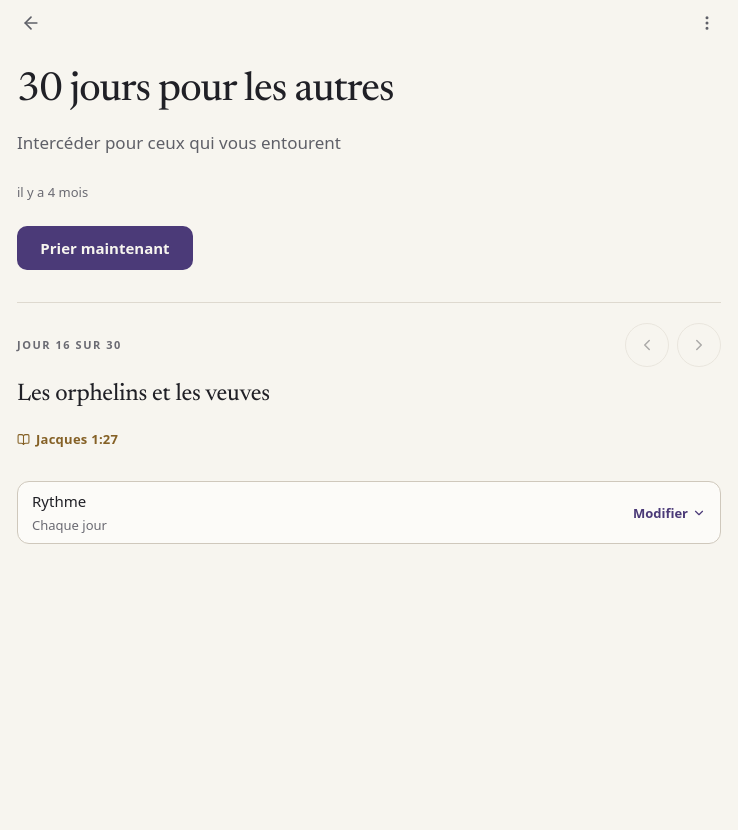
a plan run states its rhythm exactly once › opens the ONE scheduler from that row — there is no second pace control
Click the text "Rythme" at [59, 501], box x1=32 y1=491 x2=86 y2=511
(page scrolled)
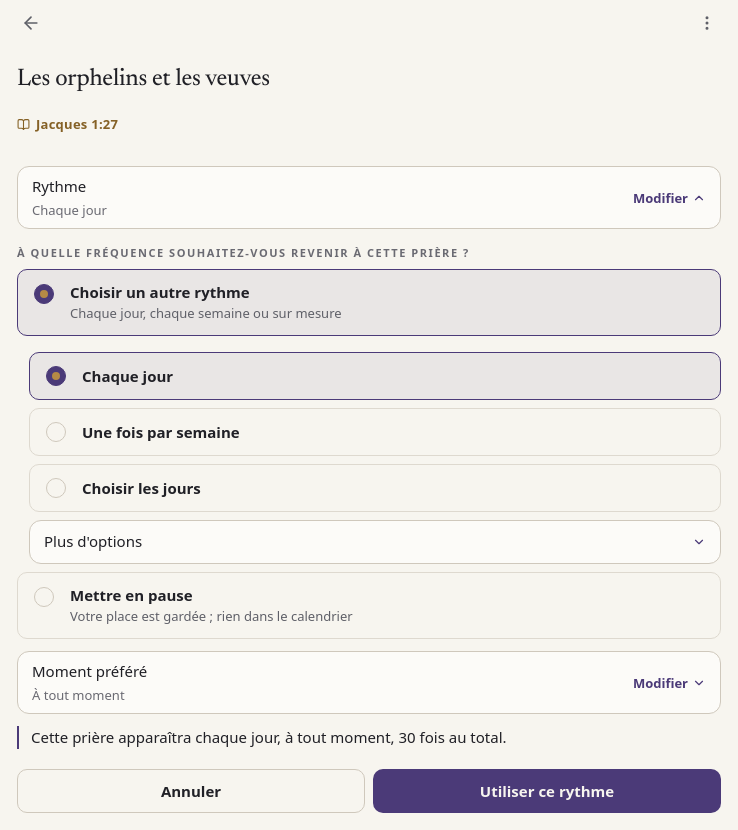
Now the text "À quelle fréquence souhaitez-vous revenir à cette prière ?" is shown, box x1=17 y1=245 x2=470 y2=261
Now the radio button labelled "Mettre en pause" is shown, box x1=17 y1=572 x2=721 y2=639
